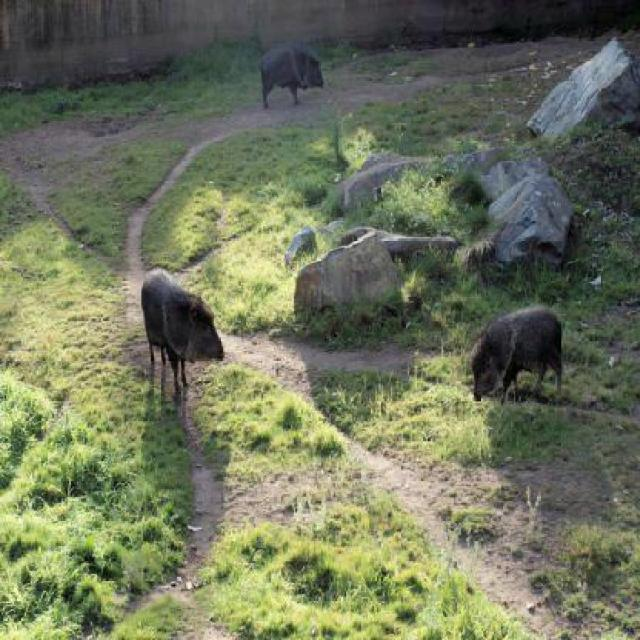Boar: (140, 265, 226, 392), (471, 303, 563, 405), (258, 43, 324, 109)
